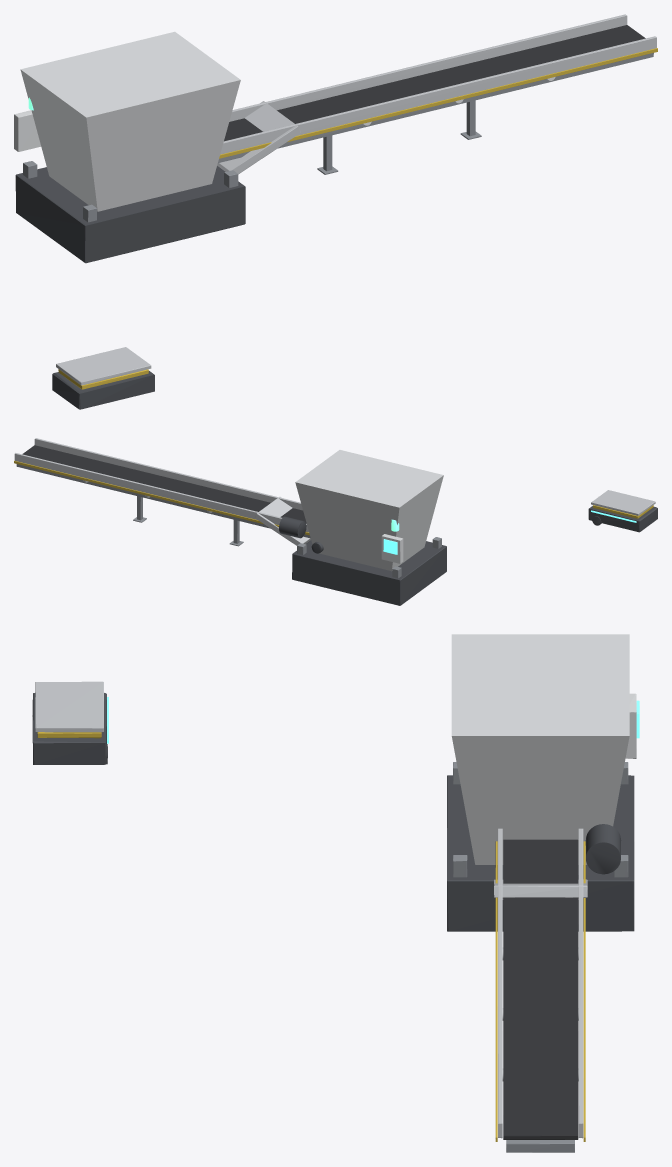
Rendered from cell_0_1_lod1.glb.
3 renders of one model, top to bottom at view 1: azimuth 30°, elevation 25°; view 2: azimuth 150°, elevation 25°; view 3: azimuth 270°, elevation 25°, orthographic. The views are drawn at different scales.
Visible parts, largest first — view 1: P_EQ_feeder_01__hopper, P_EQ_feeder_01__base, P_EQ_conveyor_a__belt, P_EQ_conveyor_a__rail_L, P_EQ_conveyor_a__rail_R, P_EQ_agv_01__body, P_EQ_agv_01__lift, P_EQ_conveyor_a__guard_L, P_EQ_conveyor_a__frame, P_EQ_feeder_01__chute, P_EQ_feeder_01__panel; view 2: P_EQ_feeder_01__hopper, P_EQ_feeder_01__base, P_EQ_conveyor_a__belt, P_EQ_conveyor_a__rail_R, P_EQ_conveyor_a__rail_L, P_EQ_agv_01__lift, P_EQ_agv_01__body, P_EQ_conveyor_a__frame, P_EQ_conveyor_a__guard_R, P_EQ_feeder_01__chute, P_EQ_feeder_01__motor, P_EQ_feeder_01__panel; view 3: P_EQ_feeder_01__hopper, P_EQ_conveyor_a__belt, P_EQ_feeder_01__base, P_EQ_agv_01__lift, P_EQ_agv_01__body, P_EQ_conveyor_a__rail_R, P_EQ_feeder_01__motor, P_EQ_conveyor_a__rail_L, P_EQ_feeder_01__chute, P_EQ_conveyor_a__frame, P_EQ_conveyor_a__guard_L, P_EQ_conveyor_a__guard_R.
Part boxes in pixels (x1,y1,x2,y2): P_EQ_feeder_01__hopper: (20, 31, 240, 211); P_EQ_feeder_01__base: (15, 166, 245, 263); P_EQ_conveyor_a__belt: (224, 25, 645, 141); P_EQ_conveyor_a__rail_L: (220, 36, 656, 154); P_EQ_conveyor_a__rail_R: (229, 14, 627, 121); P_EQ_agv_01__body: (52, 371, 154, 409); P_EQ_agv_01__lift: (56, 347, 151, 385); P_EQ_conveyor_a__guard_L: (219, 48, 657, 158); P_EQ_conveyor_a__frame: (218, 53, 653, 162); P_EQ_feeder_01__chute: (217, 101, 300, 174); P_EQ_feeder_01__panel: (14, 110, 40, 151); P_EQ_feeder_01__hopper: (295, 450, 443, 570); P_EQ_feeder_01__base: (292, 540, 446, 605); P_EQ_conveyor_a__belt: (22, 445, 306, 523); P_EQ_conveyor_a__rail_R: (14, 453, 308, 532); P_EQ_conveyor_a__rail_L: (34, 438, 302, 510); P_EQ_agv_01__lift: (591, 490, 655, 515); P_EQ_agv_01__body: (588, 506, 657, 532); P_EQ_conveyor_a__frame: (16, 464, 310, 538); P_EQ_conveyor_a__guard_R: (14, 460, 309, 535); P_EQ_feeder_01__chute: (255, 496, 310, 545); P_EQ_feeder_01__motor: (279, 516, 306, 538); P_EQ_feeder_01__panel: (381, 534, 403, 563); P_EQ_feeder_01__hopper: (451, 634, 629, 864); P_EQ_conveyor_a__belt: (503, 839, 578, 1139); P_EQ_feeder_01__base: (447, 775, 634, 931); P_EQ_agv_01__lift: (35, 681, 103, 732); P_EQ_agv_01__body: (32, 693, 106, 764); P_EQ_conveyor_a__rail_R: (578, 828, 583, 1138); P_EQ_feeder_01__motor: (585, 824, 621, 874); P_EQ_conveyor_a__rail_L: (498, 828, 502, 1138); P_EQ_feeder_01__chute: (494, 879, 587, 897); P_EQ_conveyor_a__frame: (506, 1140, 574, 1152); P_EQ_conveyor_a__guard_L: (495, 841, 497, 1141); P_EQ_conveyor_a__guard_R: (583, 841, 585, 1141).
Size of the model in its own units: 11.17 by 2.05 by 5.8.
